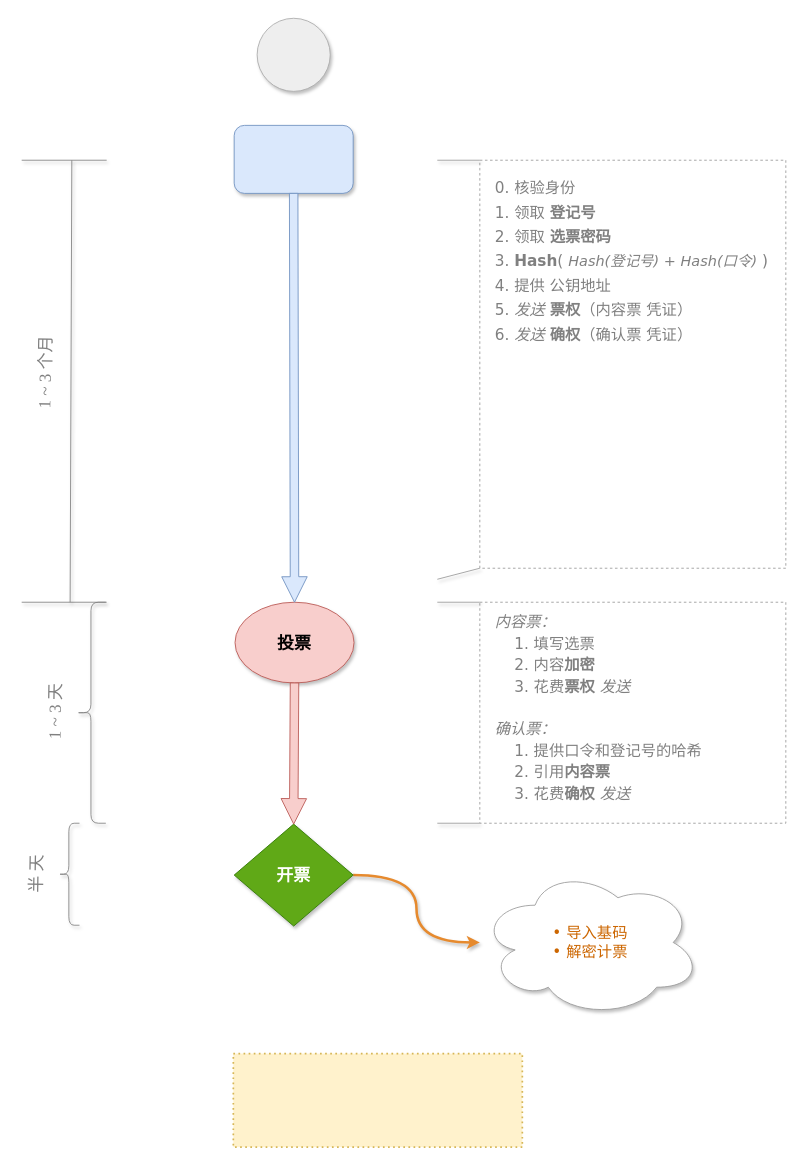
Image size: 802x1163. Some labels were removed from this diagram. The shapes that lost their labels are listed below. From the top down, each one's centre as x and y in pixels, then its label:
At (x=294, y=55): "创链".
At (x=294, y=160): "领票".
At (x=377, y=1100): "机构 ：公布基码，开放监督".
